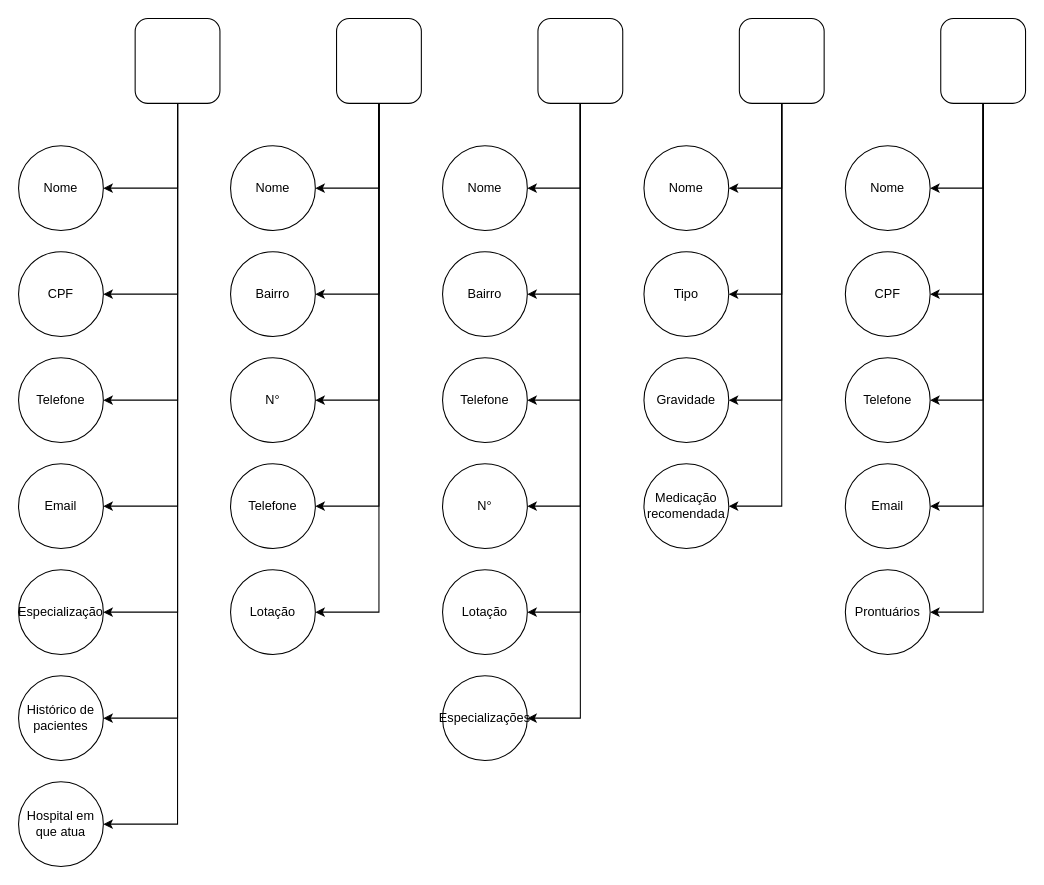
Image size: 1044x885. Some labels were removed from this diagram. The shapes that lost their labels are listed below. From the top down, each one's centre as x and y in pixels, then its label:
At (177,60): "Médicos".
At (378,60): "Hospitais".
At (580,60): "Clínicas".
At (781,60): "Doenças".
At (983,60): "Pacientes".
